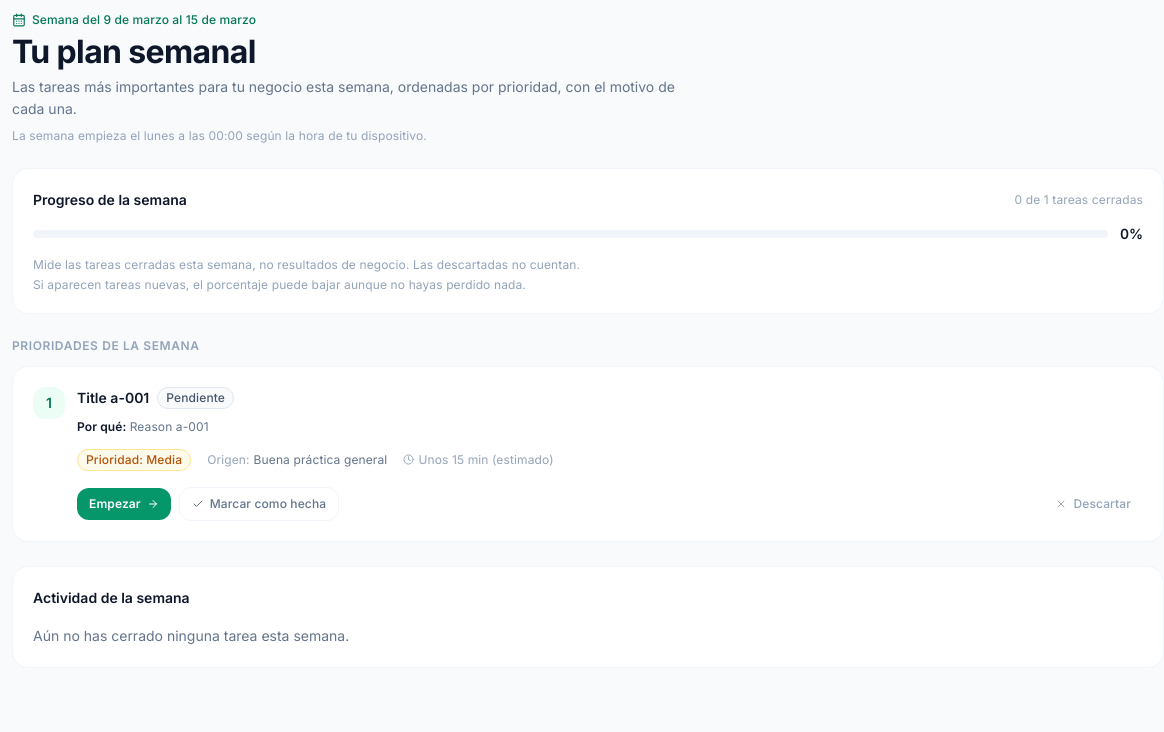
Test: error handling on updates › shows a retryable message when completion fails and keeps the action pending
The width and height of the screenshot is (1164, 732).
Click the button "Marcar como hecha" at point(259, 504), box x1=179 y1=486 x2=339 y2=520
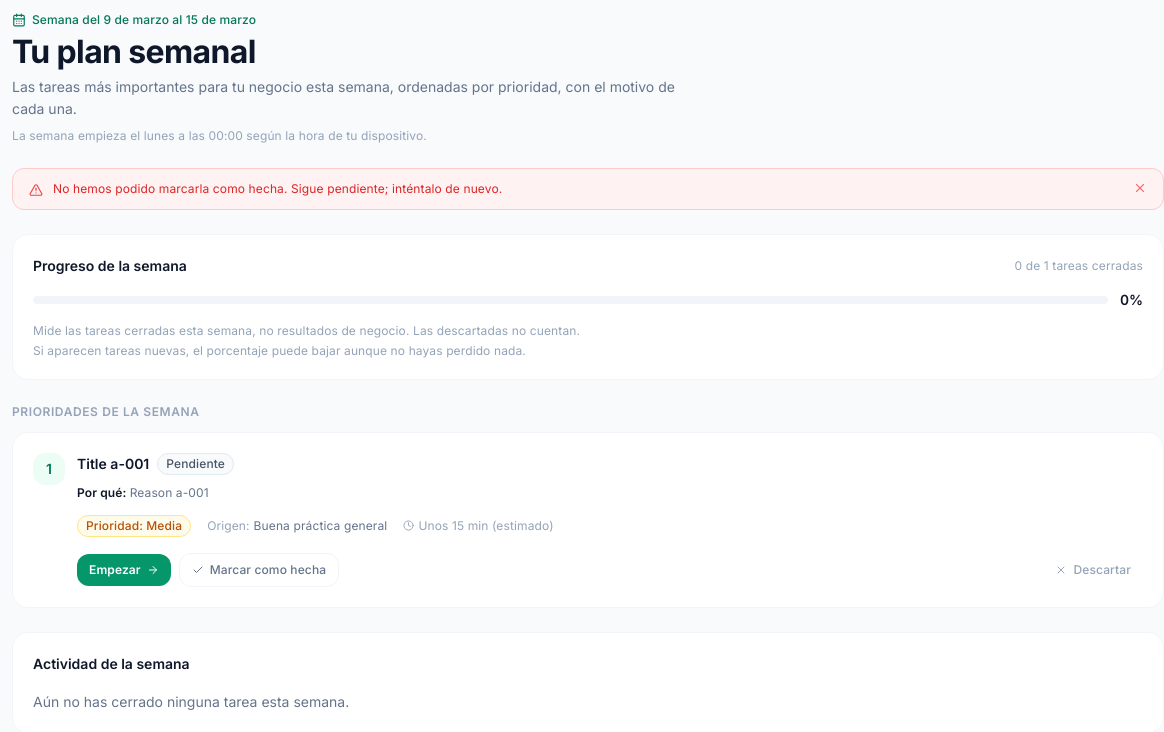
expect the text with test id "item-state" reads "Pendiente": met, box x1=166 y1=456 x2=225 y2=471
expect the message "No hemos podido marcarla como hecha. Sigue pendiente; inténtalo de nuevo." is shown: met, box x1=12 y1=168 x2=1163 y2=210
expect the button named "Cerrar" is shown: met
Click the button named "Cerrar" at point(1140, 188), box x1=1133 y1=181 x2=1147 y2=195
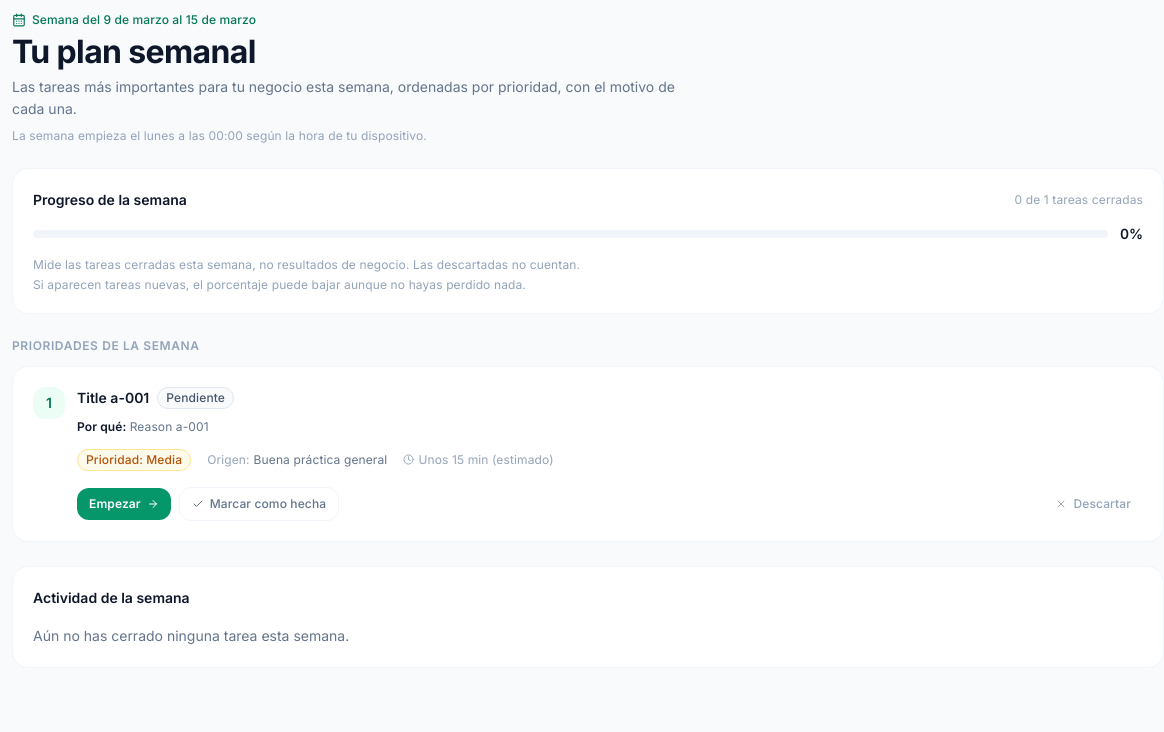
expect the message "No hemos podido marcarla como hecha. Sigue pendiente; inténtalo de nuevo." is gone: met
